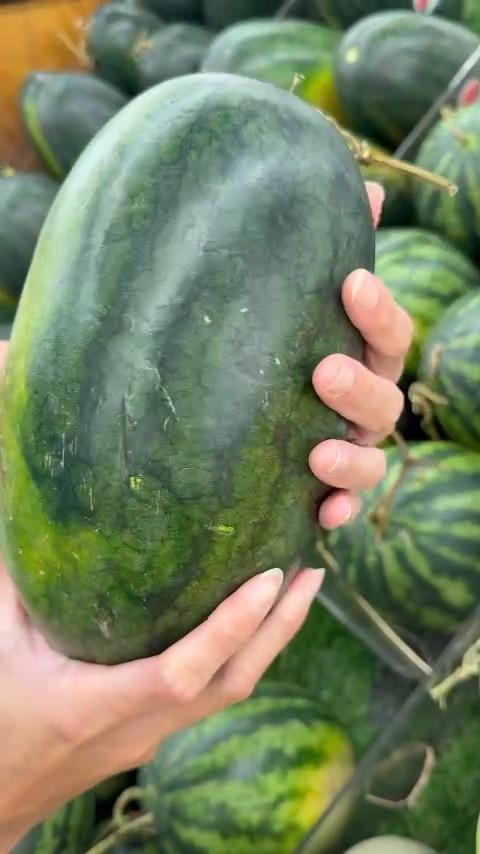watermelon: (12, 67, 299, 567), (168, 735, 348, 854), (327, 9, 479, 140), (377, 450, 480, 635), (413, 105, 480, 240), (427, 289, 480, 452)
